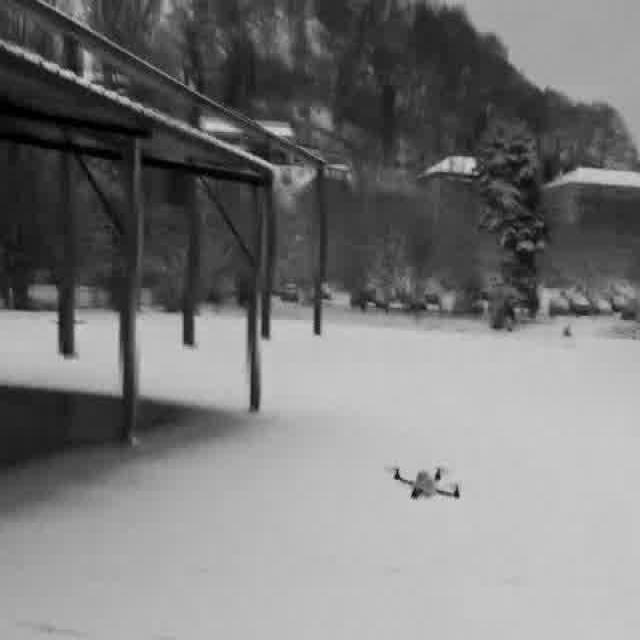drone: (378, 459, 477, 508)
